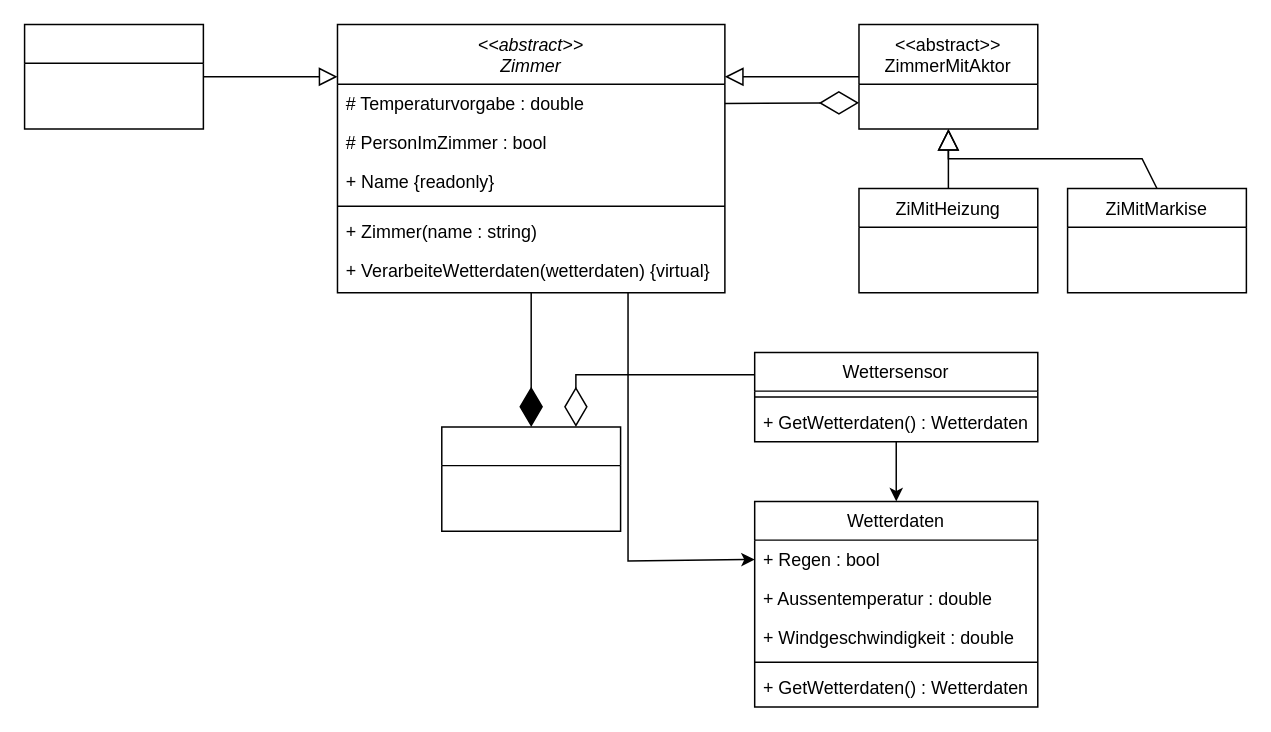
This 1271x732 diagram has some shape labels left out. The shapes that lost their labels are listed below. From the top down, each one's centre as x and y in pixels, then its label:
the point at 113,76: Wohnzimmer
the point at 530,478: Wohnung
